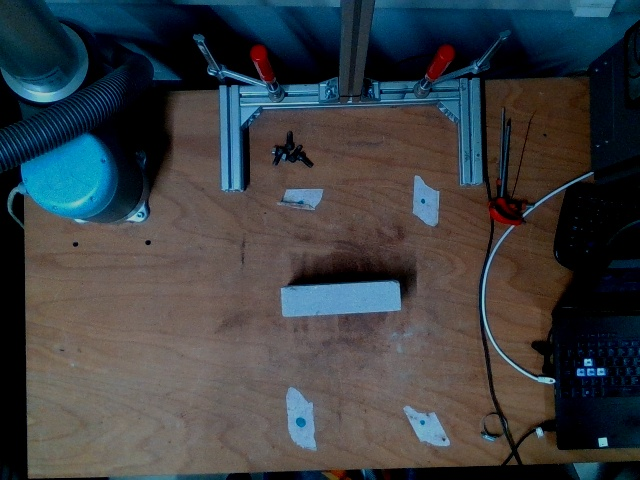brick-side: (281, 280, 401, 318)
